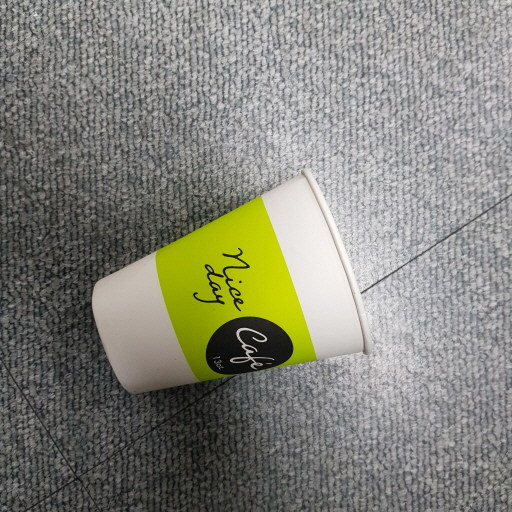Paper_1: (90, 173, 374, 393)
